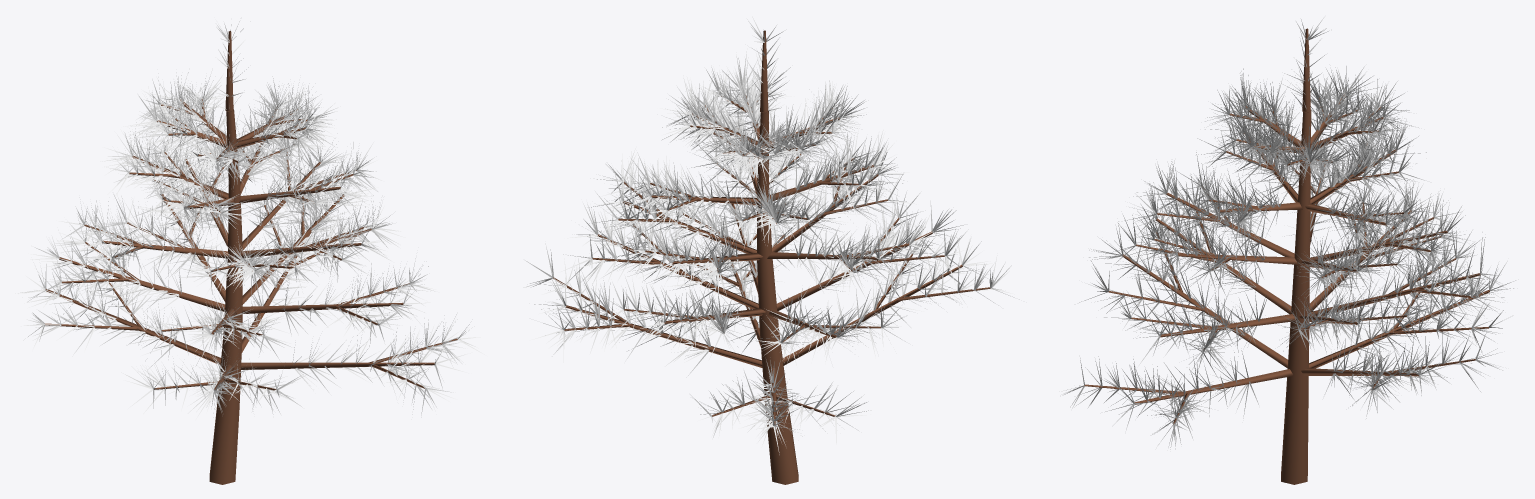
File: ENV_young_pine_LOD1.fbx
The picture shows the model from 3 angles, left to right: view 1: azimuth 30°, elevation 25°; view 2: azimuth 150°, elevation 25°; view 3: azimuth 270°, elevation 25°; orthographic projection. The views are drawn at different scales.
Parts seen in each view (by area): view 1: X_young_pine_LOD1; view 2: X_young_pine_LOD1; view 3: X_young_pine_LOD1.
Boxes of the visible parts, bbox=[...] form: X_young_pine_LOD1: bbox=[15, 21, 484, 484]; X_young_pine_LOD1: bbox=[525, 16, 1019, 484]; X_young_pine_LOD1: bbox=[1064, 17, 1515, 484].
Size of the model in its own units: 1.8 by 2 by 1.8.
